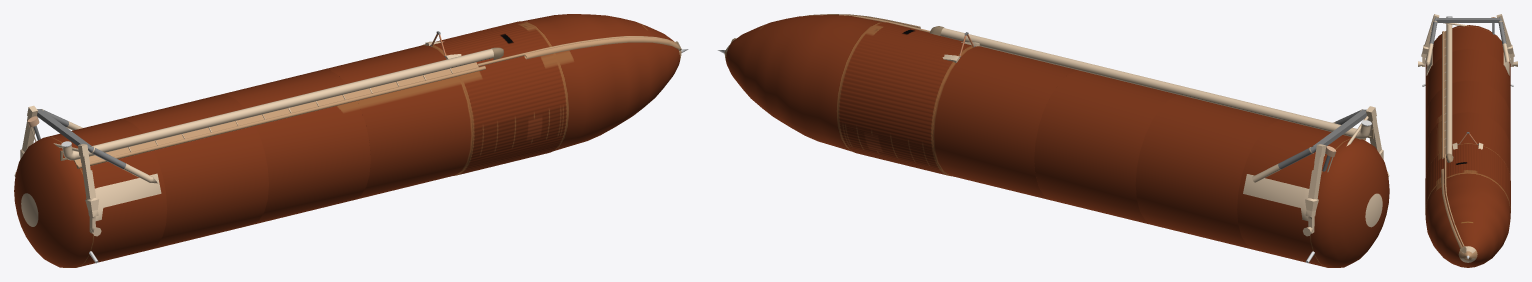
Rendered from External tank.glb.
3 renders of one model, left to right at view 1: azimuth 30°, elevation 25°; view 2: azimuth 150°, elevation 25°; view 3: azimuth 270°, elevation 25°, orthographic. The views are drawn at different scales.
Parts seen in each view (by area): view 1: et_all.lay; view 2: et_all.lay; view 3: et_all.lay.
Boxes of the visible parts, <box> form: et_all.lay: <box>14,14,688,267</box>; et_all.lay: <box>717,14,1389,267</box>; et_all.lay: <box>1418,14,1517,267</box>.
Size of the model in its own units: 1880 by 380 by 388.
Materials: 24 (1 with a texture image).
